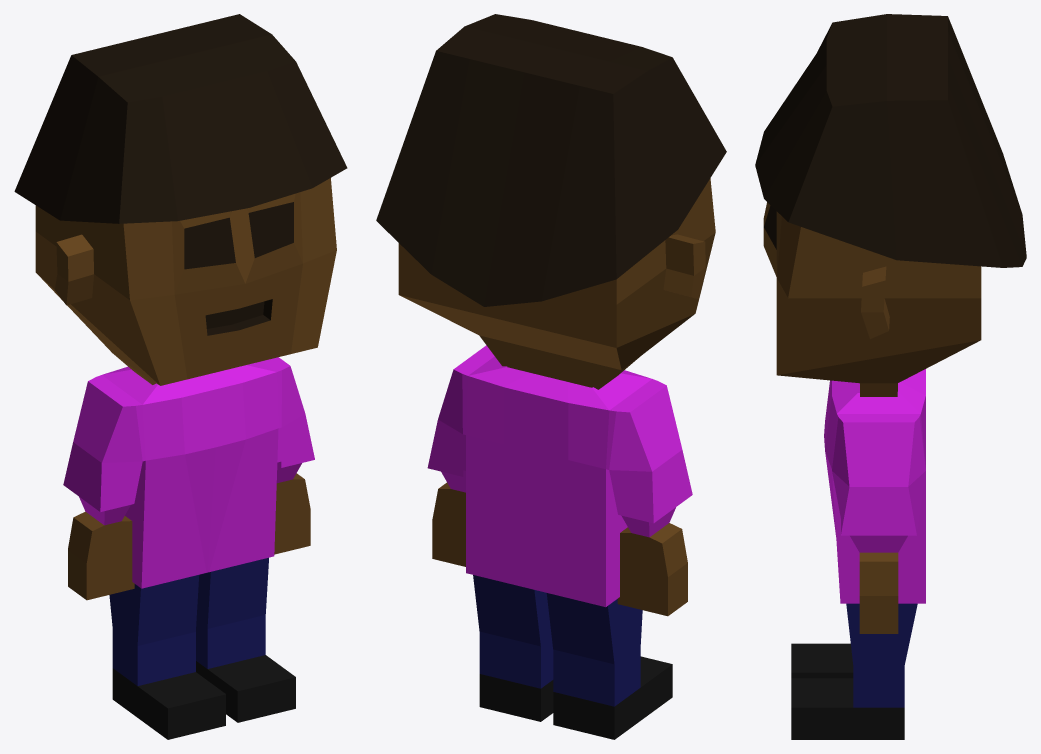
The model's file is Pasient.fbx.
The picture shows the model from 3 angles, left to right: view 1: azimuth 30°, elevation 25°; view 2: azimuth 150°, elevation 25°; view 3: azimuth 270°, elevation 25°; orthographic projection. The views are drawn at different scales.
Visible parts, largest first — view 1: Cube; view 2: Cube; view 3: Cube.
Part boxes in pixels (<box>): Cube: <box>14,14,347,739</box>; Cube: <box>376,14,726,739</box>; Cube: <box>755,14,1026,739</box>.
Bounding box in the file's own units: 86.67 × 203 × 76.79.
